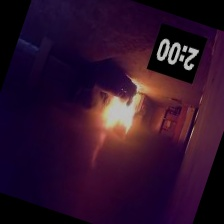fire: (90, 76, 154, 149)
